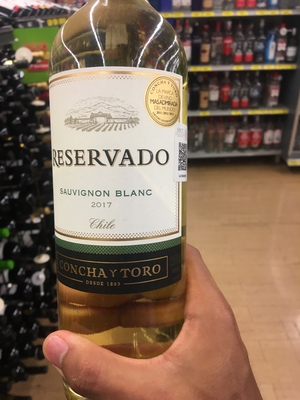reservado sauvignon blanc: (47, 13, 200, 397)
